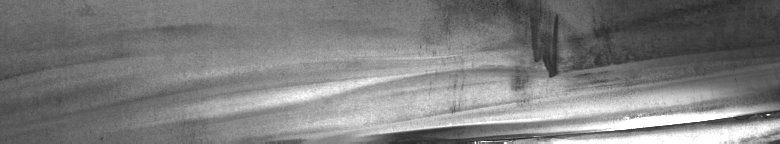ke: (136, 4, 776, 136)
